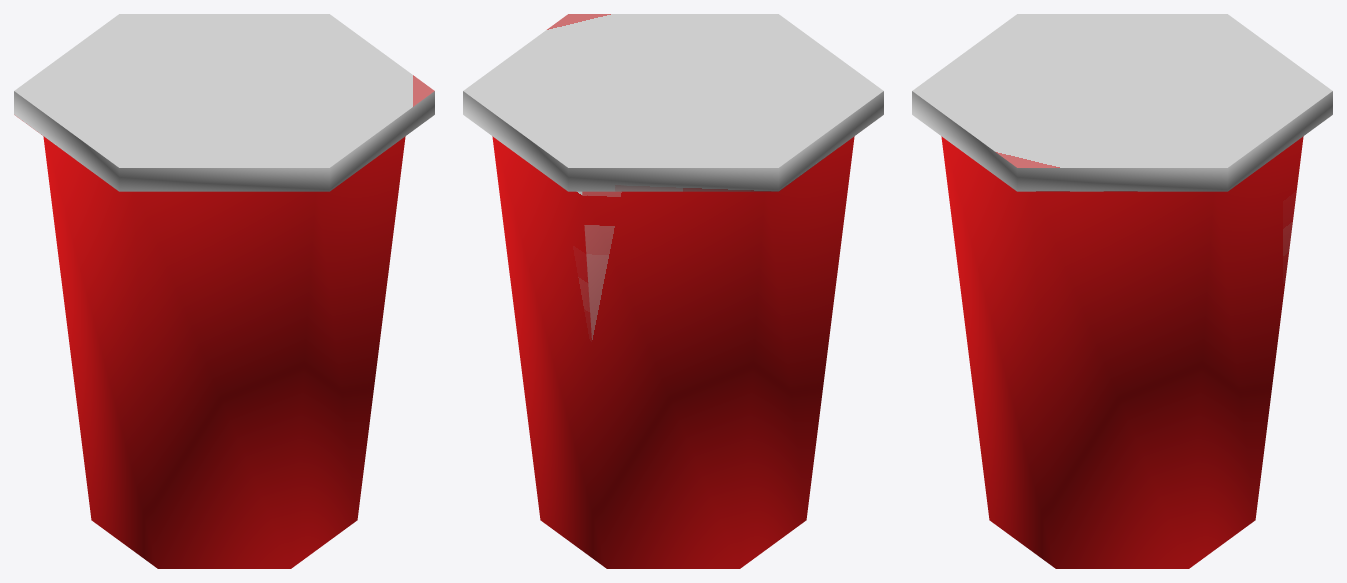
File: Mesh_BackgroundCup.fbx
3 views of the same model, side by side, from view 1: azimuth 30°, elevation 25°; view 2: azimuth 150°, elevation 25°; view 3: azimuth 270°, elevation 25° (orthographic).
Visible parts, largest first — view 1: Cylinder; view 2: Cylinder; view 3: Cylinder.
Part boxes in pixels (x1=…): Cylinder: x1=14, y1=14, x2=434, y2=568; Cylinder: x1=463, y1=14, x2=883, y2=568; Cylinder: x1=912, y1=14, x2=1332, y2=568.
Size of the model in its own units: 134 by 174 by 155.
1 material, 1 textured.
